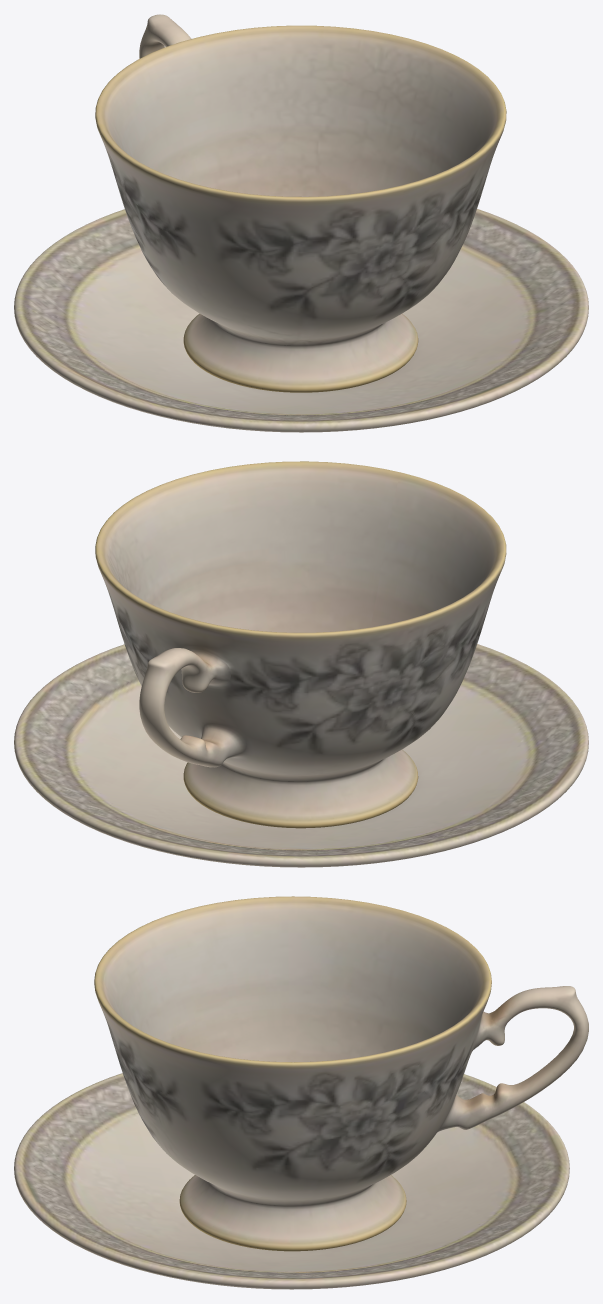
File: teacup.glb
3 renders of one model, top to bottom at view 1: azimuth 30°, elevation 25°; view 2: azimuth 150°, elevation 25°; view 3: azimuth 270°, elevation 25°, orthographic. The views are drawn at different scales.
Visible parts, largest first — view 1: tea_cup, tea_saucer; view 2: tea_cup, tea_saucer; view 3: tea_cup, tea_saucer.
Boxes of the visible parts, x1=… form: tea_cup: x1=95, y1=14, x2=506, y2=392; tea_saucer: x1=14, y1=209, x2=588, y2=432; tea_cup: x1=95, y1=461, x2=506, y2=828; tea_saucer: x1=14, y1=644, x2=588, y2=867; tea_cup: x1=94, y1=896, x2=588, y2=1251; tea_saucer: x1=14, y1=1073, x2=569, y2=1289.
Bounding box in the file's own units: 0.1486 × 0.0704 × 0.1537.
2 materials, 2 textured.
